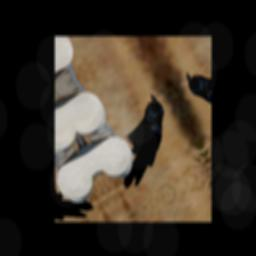Crow: (94, 91, 188, 193)
